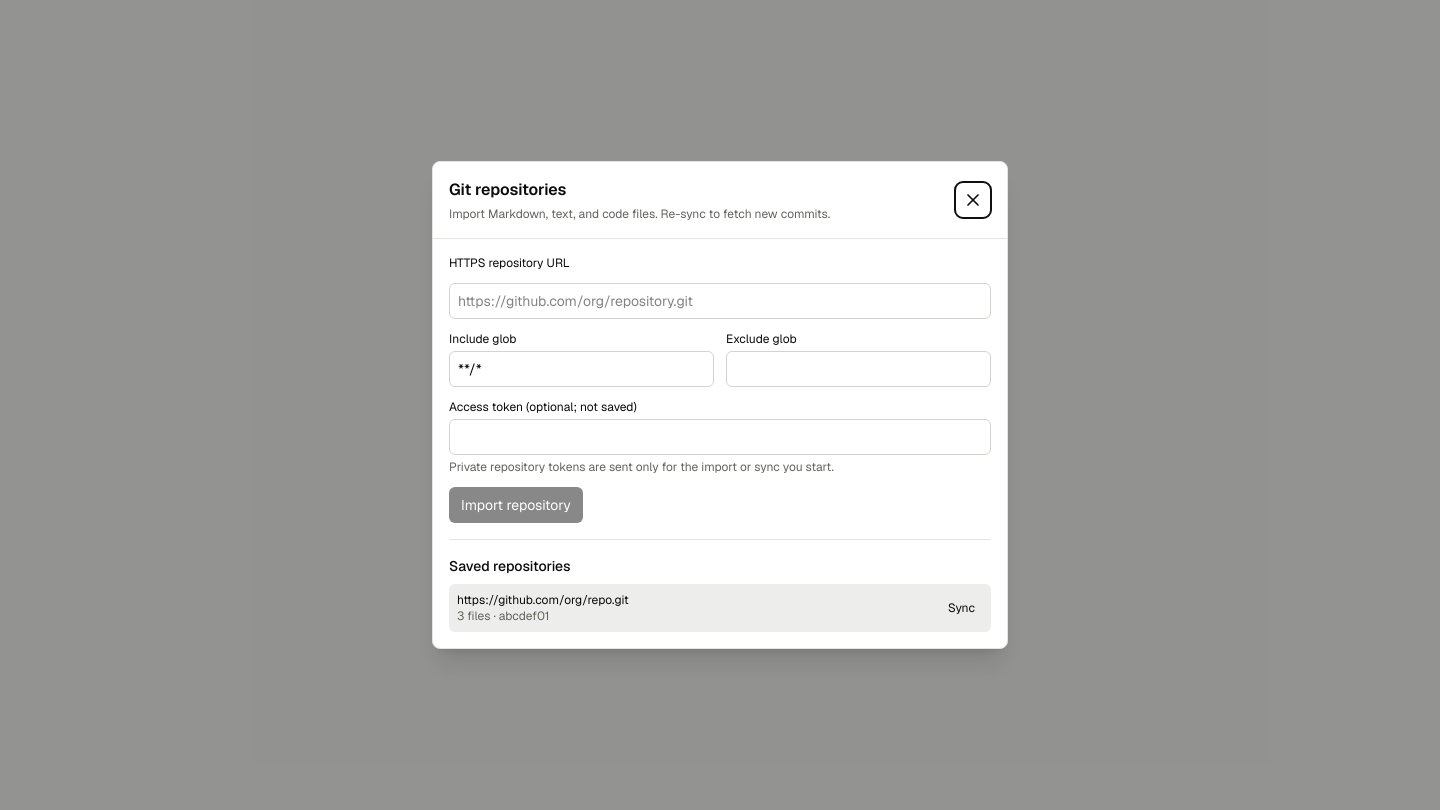
Scenario: GitRepositoryDialog › clears the one-time token after a failed sync
Expected: the text "https://github.com/org/repo.git" is shown, top-left (457, 592), bottom-right (629, 608)
In the password field labelled "Access token (optional; not saved)": (720, 437) top-left (449, 419), bottom-right (991, 455), type "private-token"
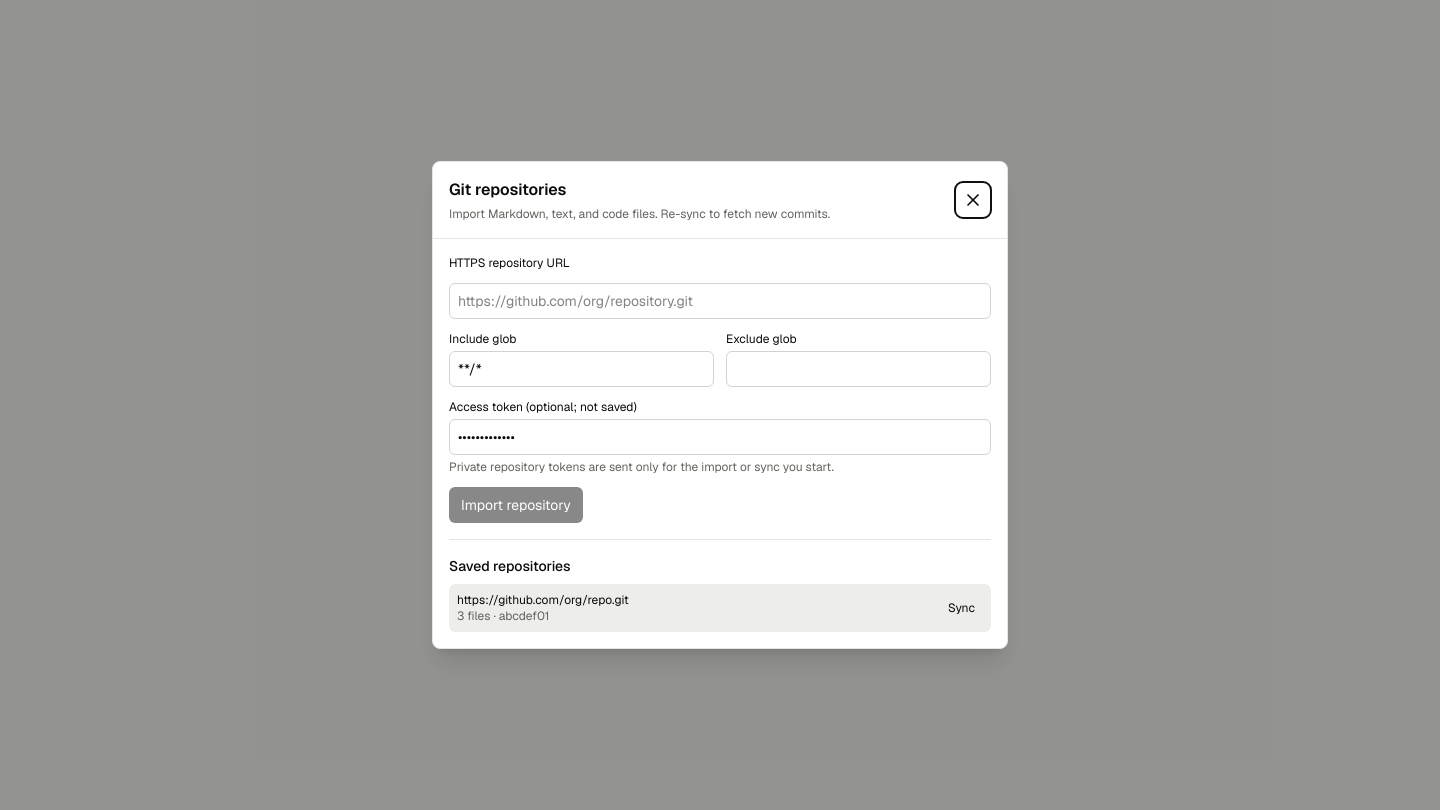
Click the button "Sync": click(962, 608) top-left (940, 592), bottom-right (983, 624)
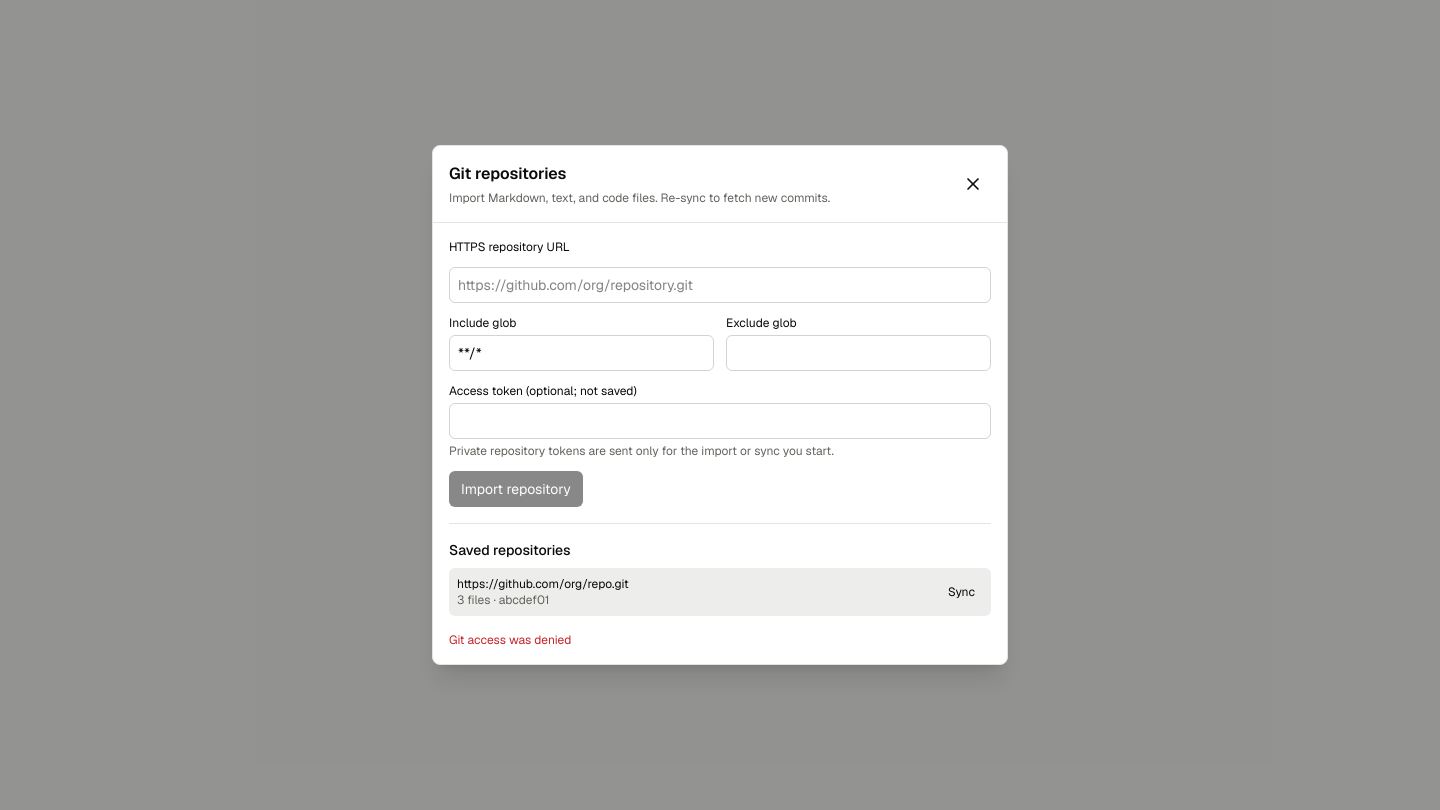
Now the message reads "Git access was denied", box top-left (449, 632), bottom-right (571, 648)
Now the password field labelled "Access token (optional; not saved)" is empty, box top-left (449, 403), bottom-right (991, 439)
